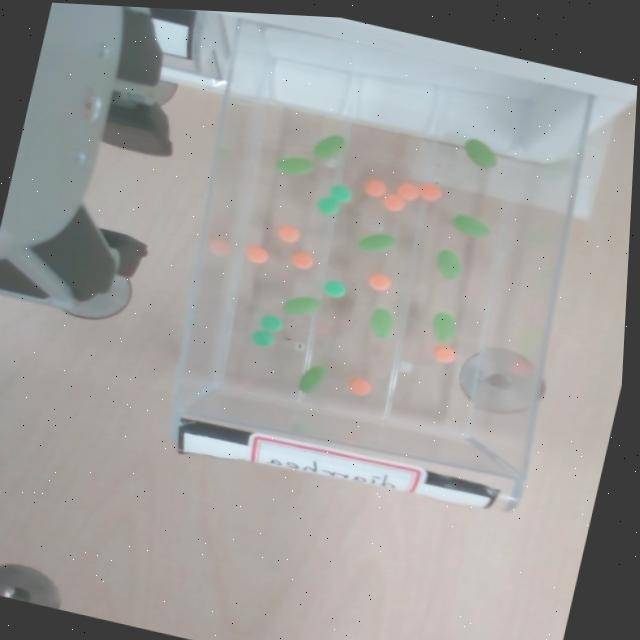famodine: (322, 277, 348, 299), (315, 193, 341, 215), (327, 182, 353, 204), (258, 313, 284, 333), (251, 327, 277, 346), (317, 196, 340, 214), (330, 184, 352, 202), (324, 280, 346, 297), (261, 314, 283, 331), (252, 330, 275, 346)
otillen_tab: (460, 135, 501, 169), (449, 210, 492, 239), (282, 290, 323, 320), (432, 246, 467, 281), (358, 227, 398, 257), (313, 129, 347, 163), (428, 309, 460, 345), (275, 152, 316, 179), (297, 361, 328, 396), (366, 305, 397, 339), (463, 138, 498, 168), (452, 214, 490, 237), (313, 134, 346, 159), (432, 312, 457, 343), (437, 249, 462, 279), (276, 156, 315, 175), (299, 365, 326, 392), (358, 233, 396, 252), (370, 307, 394, 337), (284, 296, 321, 314)
samsung_octylonium_tab: (418, 181, 445, 202), (398, 180, 423, 202), (381, 191, 407, 212), (366, 270, 391, 291), (364, 177, 389, 198), (432, 342, 456, 363), (291, 248, 315, 269), (350, 375, 373, 396), (278, 223, 301, 244), (417, 182, 442, 201), (246, 244, 269, 263), (368, 272, 392, 290), (276, 224, 300, 242), (382, 193, 406, 211), (364, 178, 388, 196), (433, 345, 456, 363), (349, 377, 372, 395), (291, 251, 314, 269), (246, 245, 269, 263), (396, 182, 419, 200)
